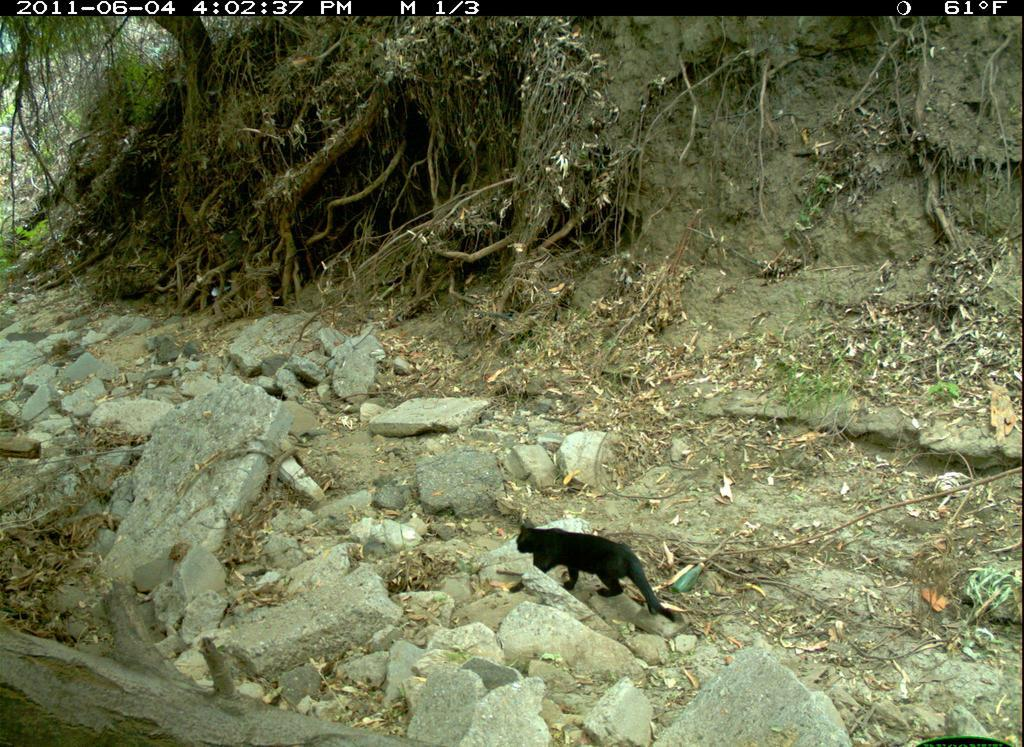cat: (506, 513, 690, 631)
